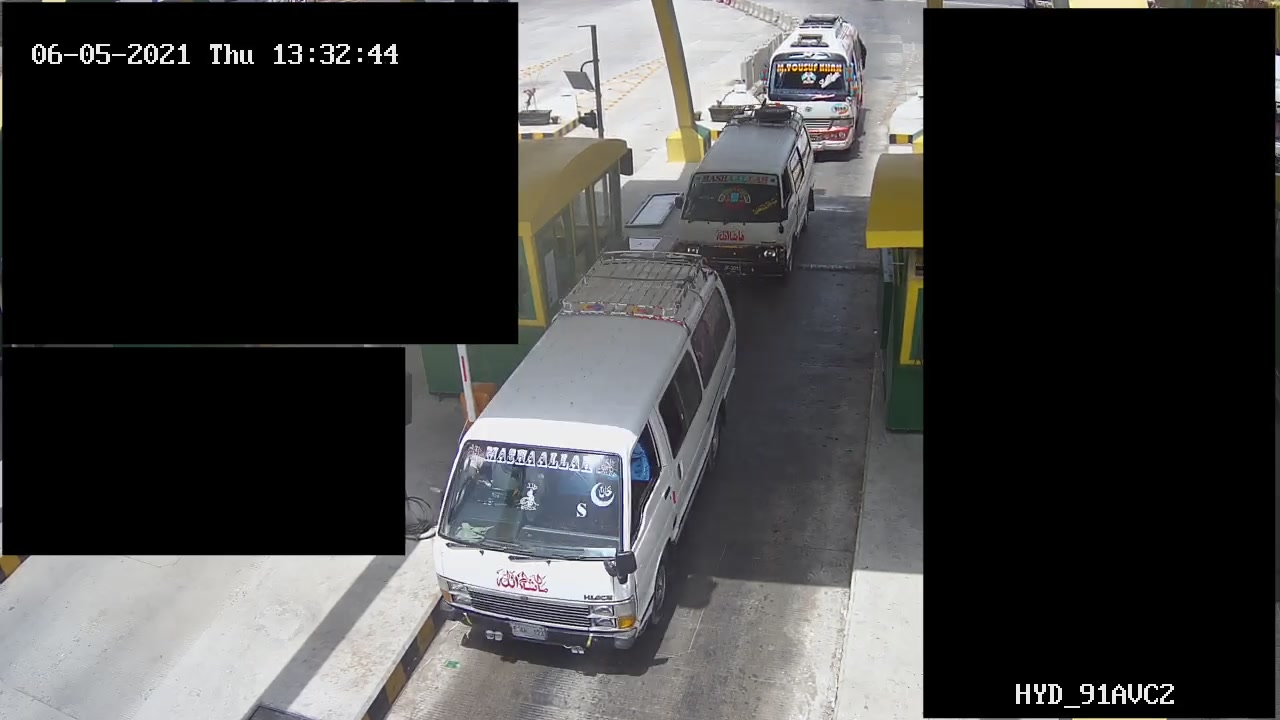F2: (436, 261, 733, 662)
